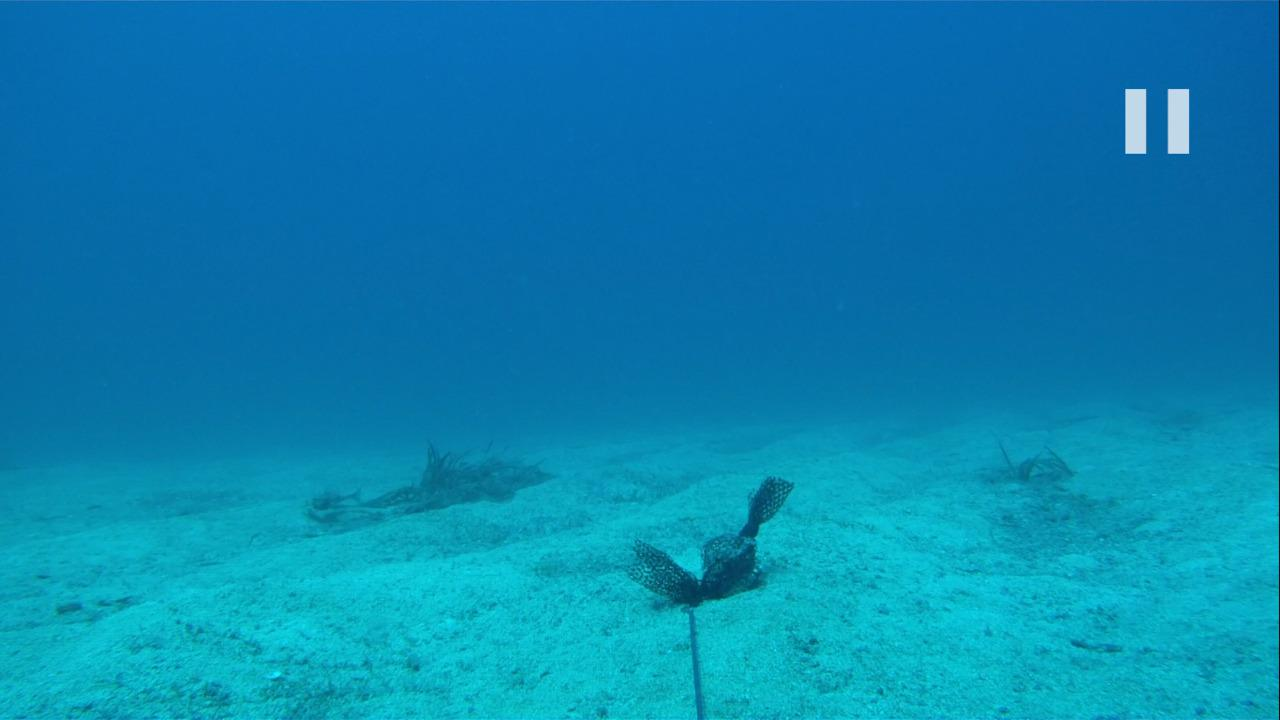dactylopterus: (297, 473, 374, 529)
